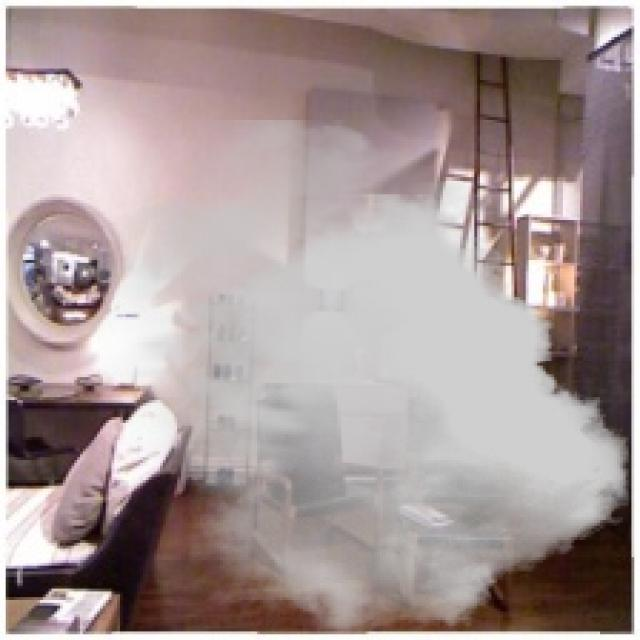smoke: (97, 120, 629, 634)
